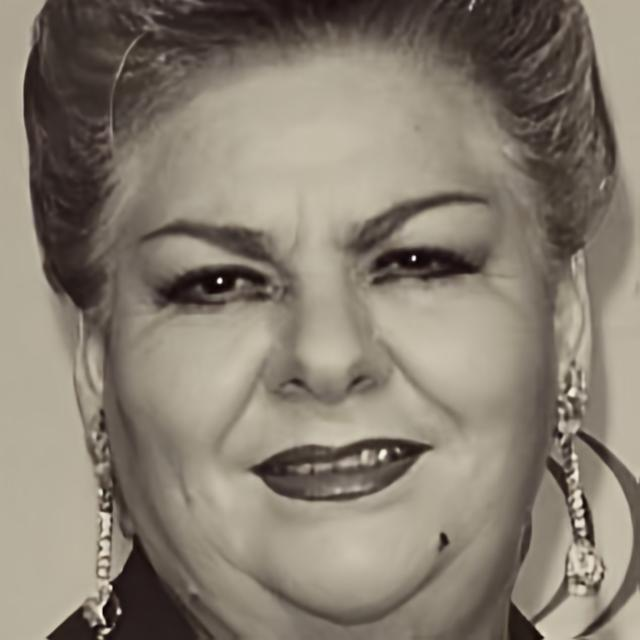disgust: (110, 19, 556, 624)
